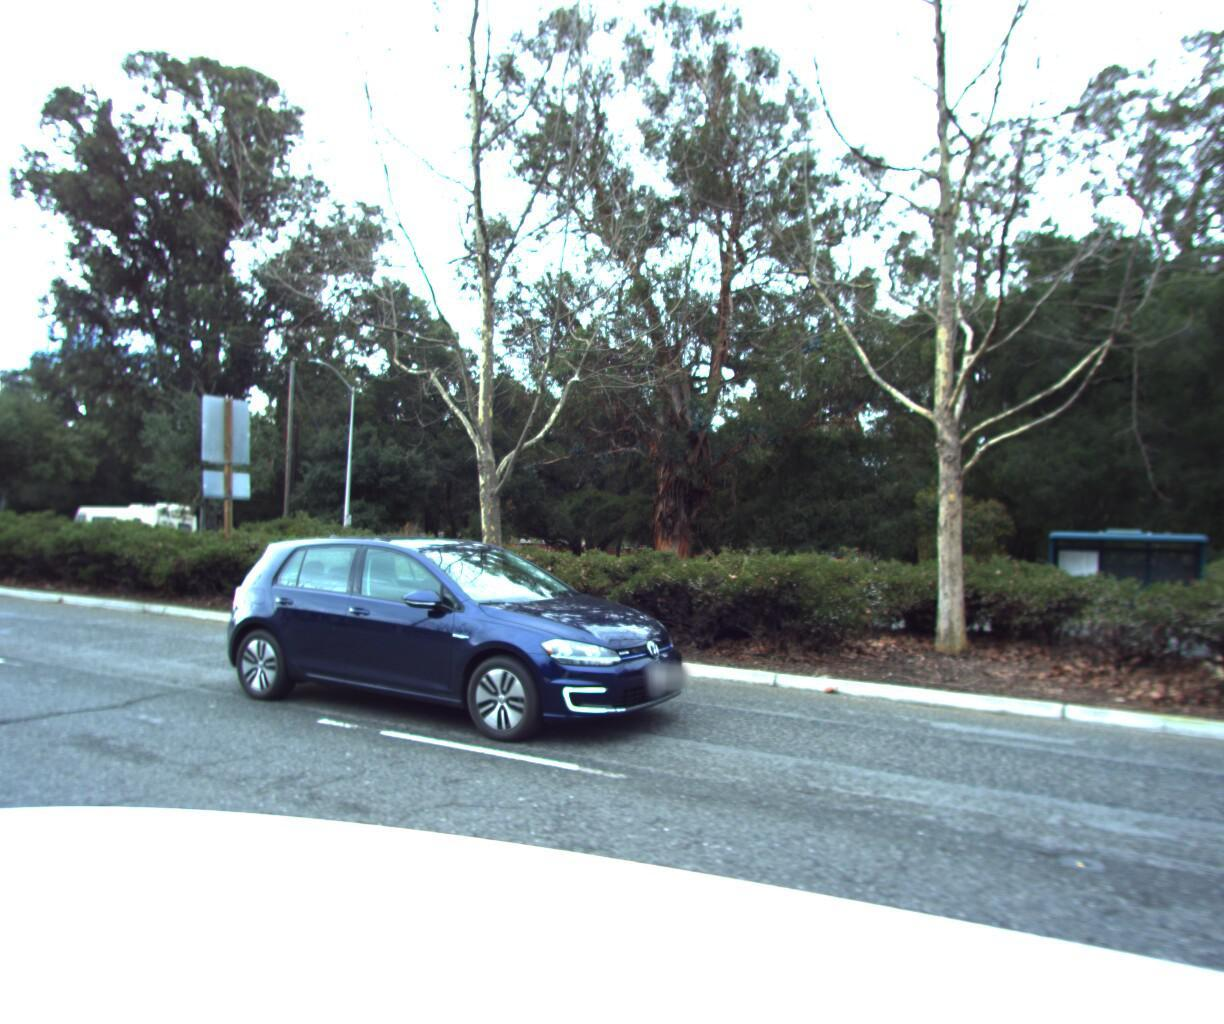car: (207, 521, 698, 761)
other_vehicle: (68, 494, 202, 555)
